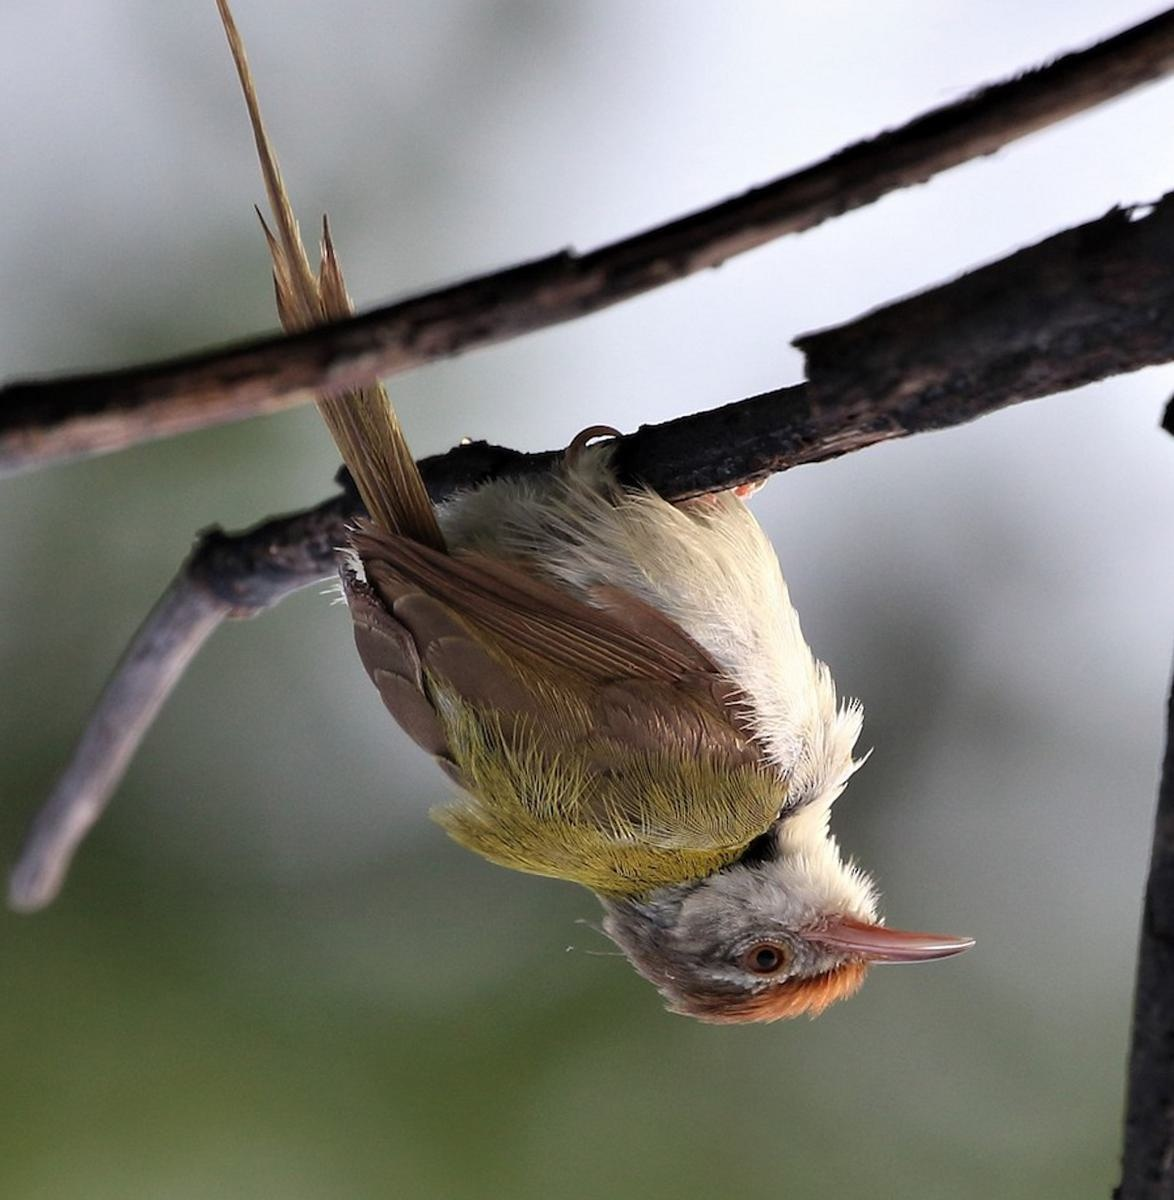tailorbird: (212, 135, 1004, 1088)
